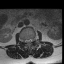CCS_normal: (27, 36, 29, 45)
LFS_normal: (31, 36, 34, 43)
LLS_normal: (29, 36, 31, 44)
RFS_normal: (23, 37, 25, 44)
RLS_normal: (25, 37, 27, 44)
